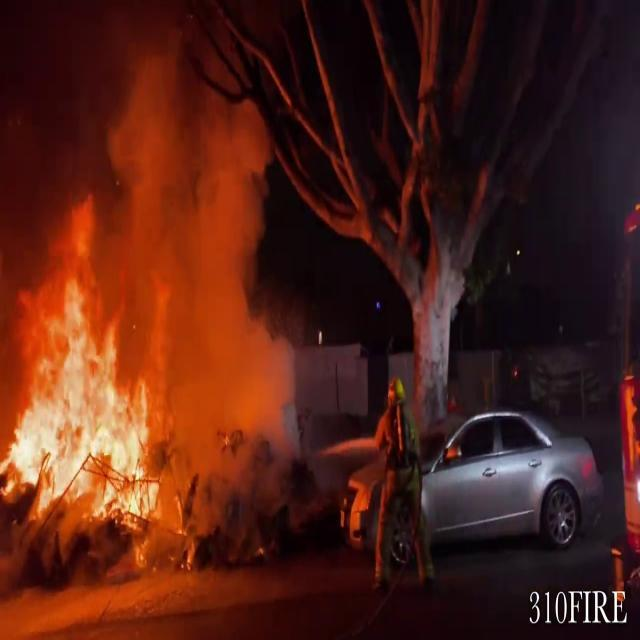Fire: (0, 214, 174, 528)
Smoke: (0, 23, 308, 525)
